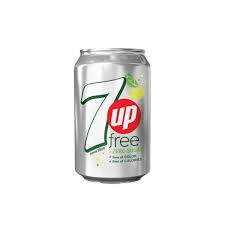can: (70, 42, 157, 187)
